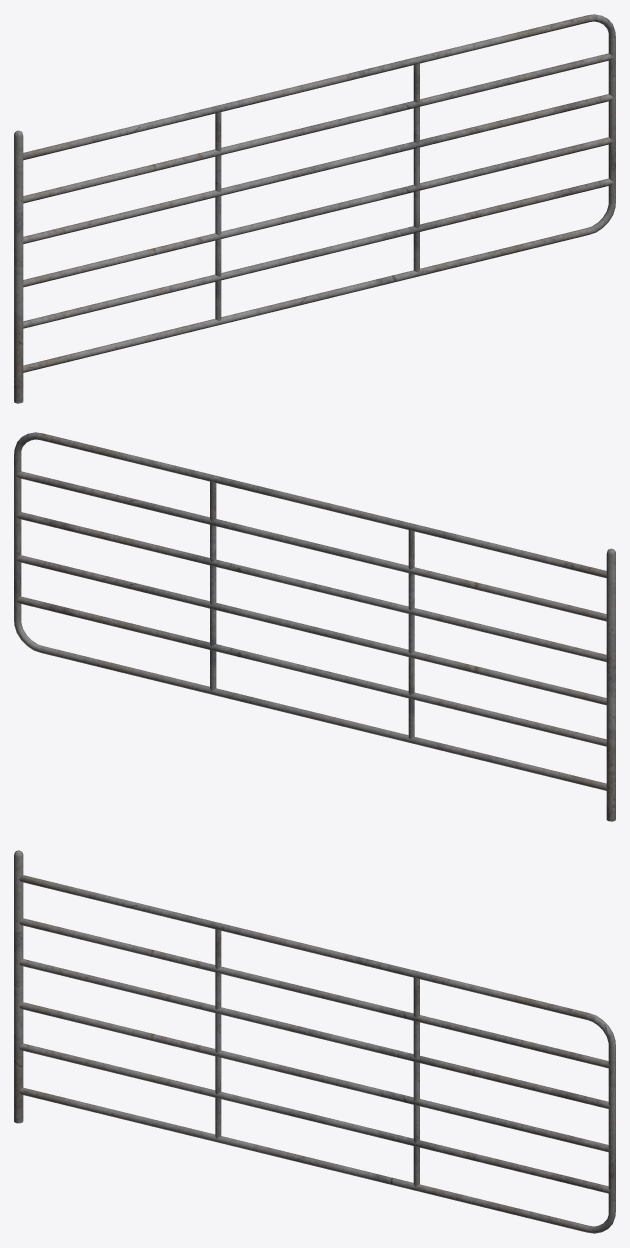
Rendered from SM_FAR_FenceGate_01.fbx.
3 views of the same model, one above another, from view 1: azimuth 30°, elevation 25°; view 2: azimuth 150°, elevation 25°; view 3: azimuth 330°, elevation 25° (orthographic).
Parts seen in each view (by area): view 1: SM_FAR_FenceGate_01.mo; view 2: SM_FAR_FenceGate_01.mo; view 3: SM_FAR_FenceGate_01.mo.
Part boxes in pixels (box(x1,y1,x2,y2)): SM_FAR_FenceGate_01.mo: box(14, 14, 615, 403); SM_FAR_FenceGate_01.mo: box(14, 432, 615, 821); SM_FAR_FenceGate_01.mo: box(14, 850, 615, 1233).
Bounding box in the file's own units: 271 × 116 × 3.74.
